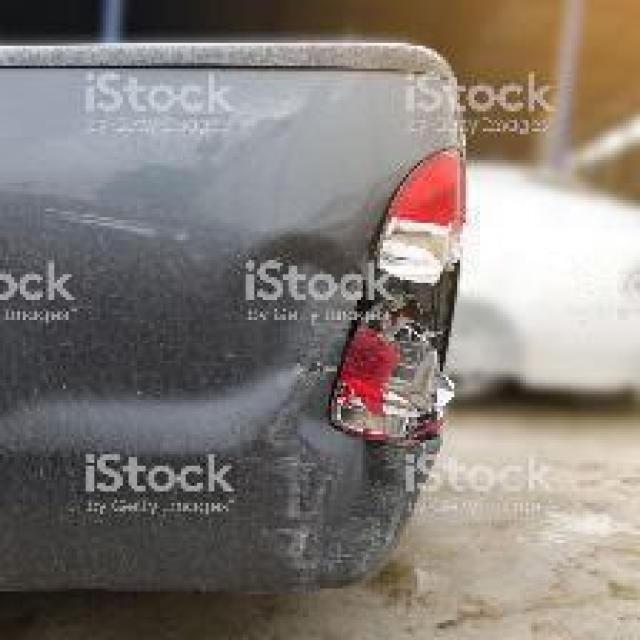damaged: (240, 226, 474, 592)
